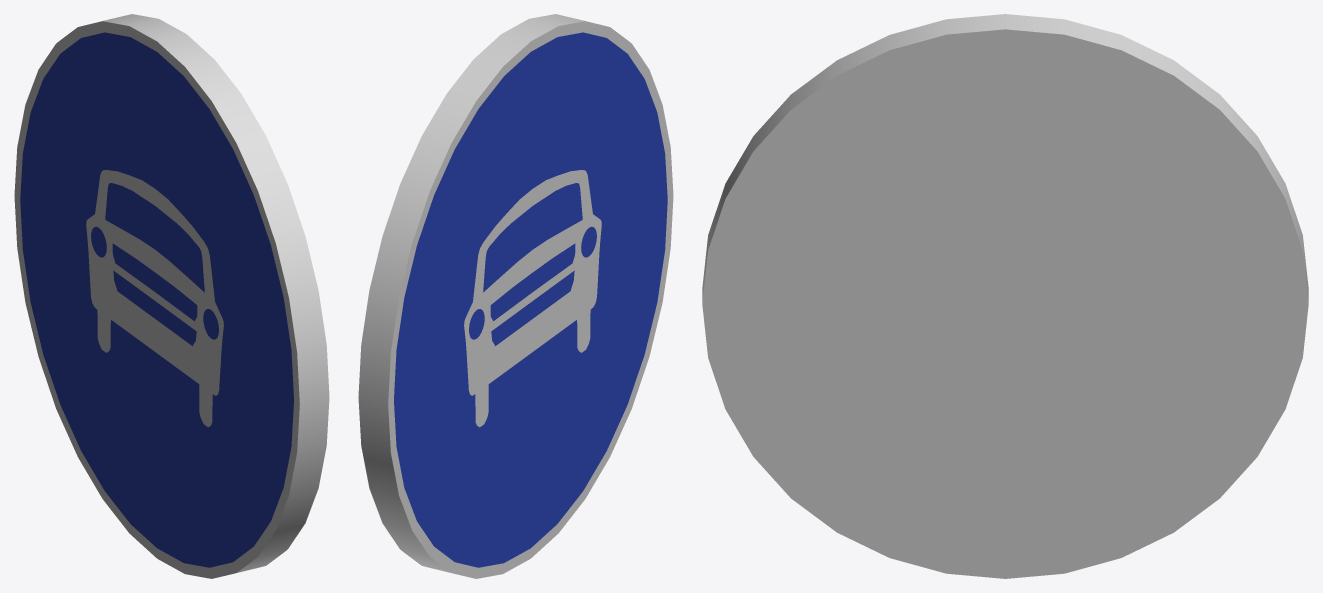
Rendered from MotorVehicle_Driving.fbx.
The picture shows the model from 3 angles, left to right: view 1: azimuth 30°, elevation 25°; view 2: azimuth 150°, elevation 25°; view 3: azimuth 270°, elevation 25°; orthographic projection. The views are drawn at different scales.
Parts seen in each view (by area): view 1: MotorVehicle_Driving; view 2: MotorVehicle_Driving; view 3: MotorVehicle_Driving.
Boxes of the visible parts, left/top/right/bottom form: MotorVehicle_Driving: left=14, top=14, right=329, bottom=578; MotorVehicle_Driving: left=358, top=14, right=673, bottom=578; MotorVehicle_Driving: left=702, top=14, right=1308, bottom=578.
Bounding box in the file's own units: 0.0643 × 1 × 1.
